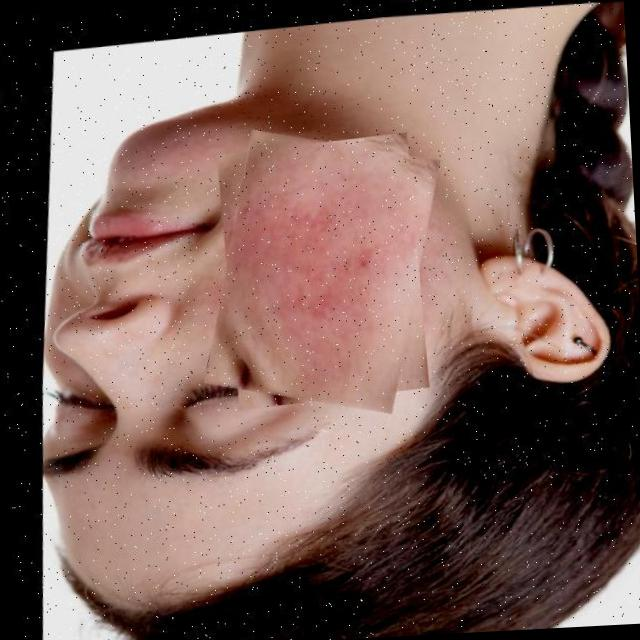redness: (232, 140, 427, 398)
